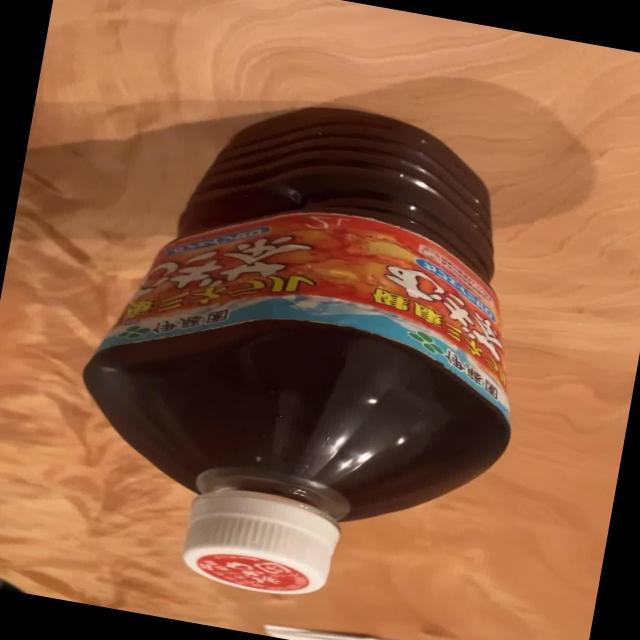good: (44, 67, 568, 634)
